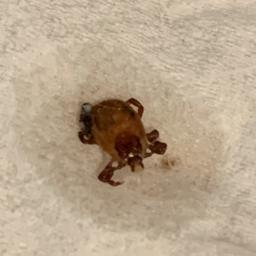Rhipicephalus sanguineus: (78, 97, 167, 186)
